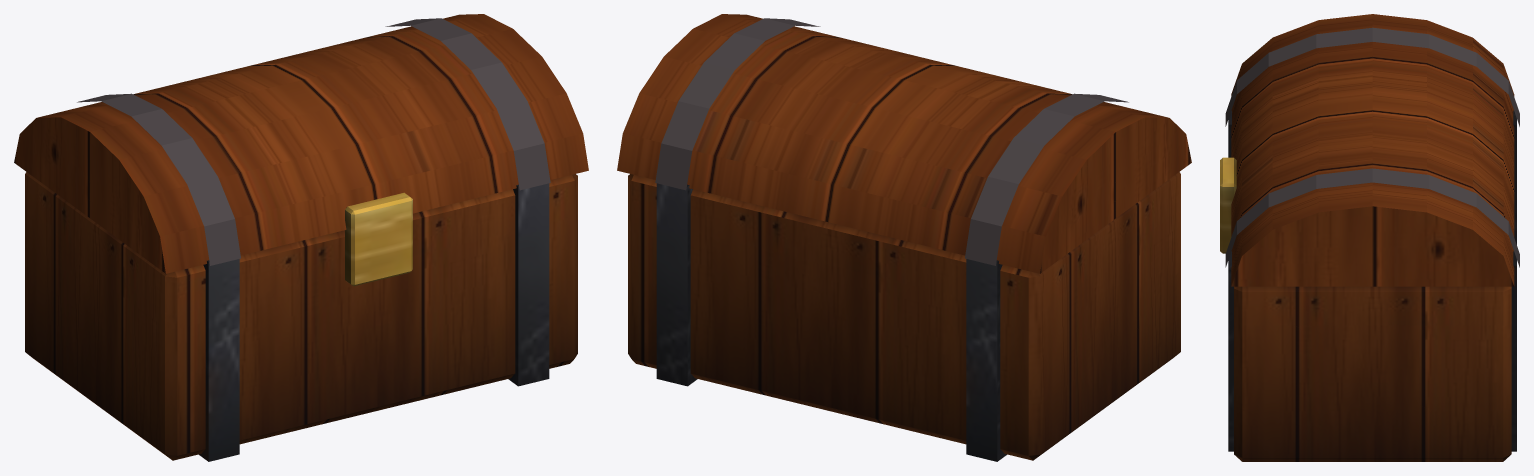
The model's file is interior_chest.glb.
3 views of the same model, side by side, from view 1: azimuth 30°, elevation 25°; view 2: azimuth 150°, elevation 25°; view 3: azimuth 270°, elevation 25° (orthographic). The views are drawn at different scales.
Visible parts, largest first — view 1: interior_chest; view 2: interior_chest; view 3: interior_chest.
Boxes of the visible parts, x1=… form: interior_chest: x1=14, y1=14, x2=588, y2=461; interior_chest: x1=617, y1=14, x2=1191, y2=461; interior_chest: x1=1220, y1=14, x2=1519, y2=461.
Bounding box in the file's own units: 0.82 × 0.535 × 0.54.
Materials: 3 (3 with a texture image).
